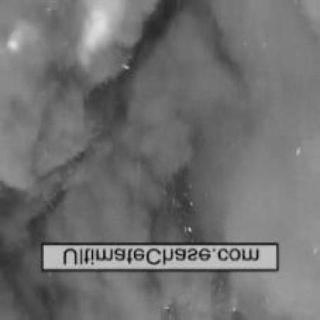Fire: (3, 1, 127, 65)
